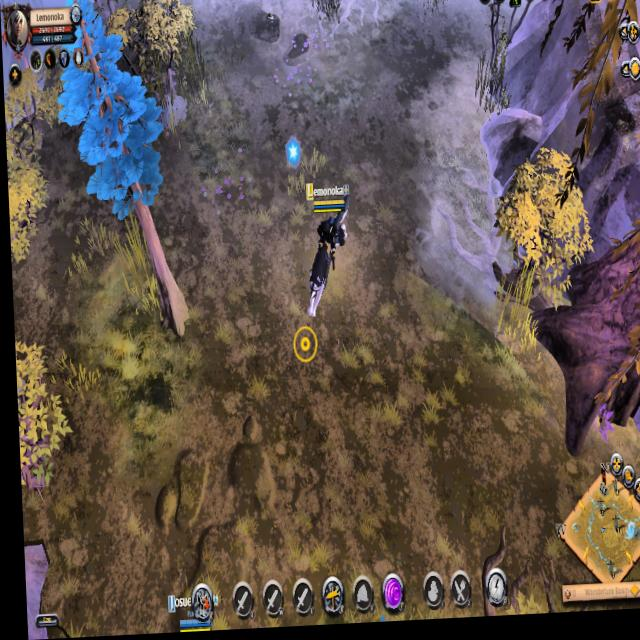wood tier 4: (79, 0, 171, 225)
